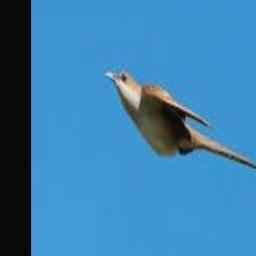Cuckoo: (104, 69, 256, 172)
